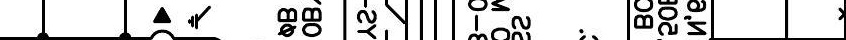115_ds: (384, 4, 405, 34)
